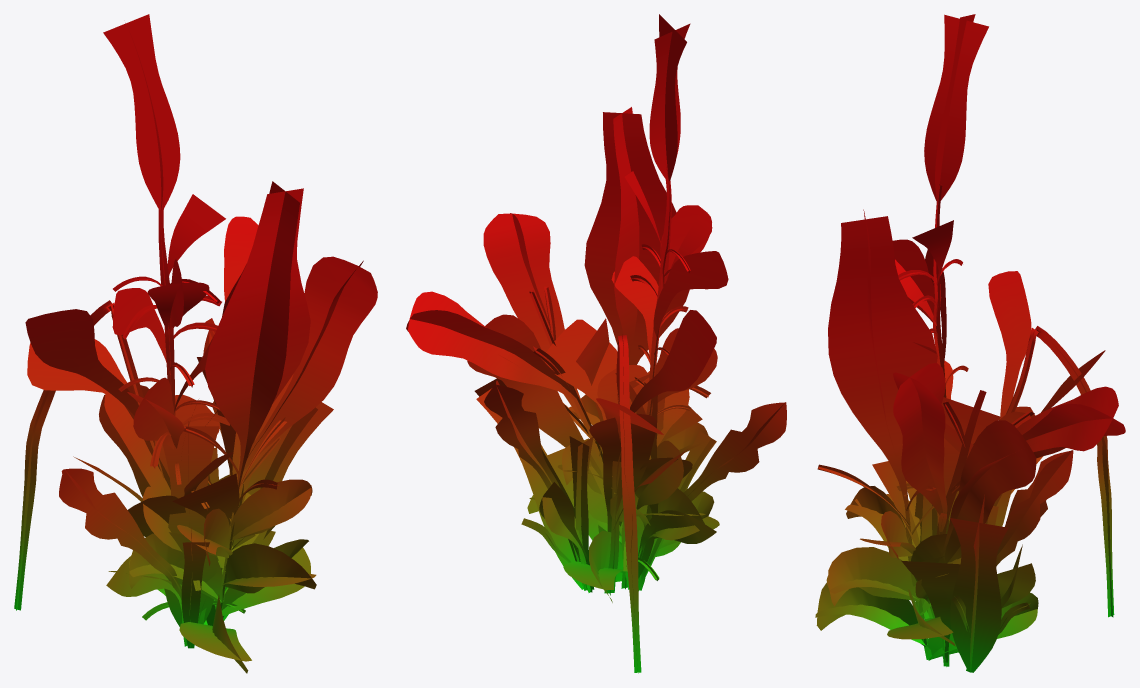
Rendered from Green Herb_LOD0_Var2_tbbpaier.fbx.
The picture shows the model from 3 angles, left to right: view 1: azimuth 30°, elevation 25°; view 2: azimuth 150°, elevation 25°; view 3: azimuth 270°, elevation 25°; orthographic projection. The views are drawn at different scales.
Parts seen in each view (by area): view 1: _4160_Var2_LOD0; view 2: _4160_Var2_LOD0; view 3: _4160_Var2_LOD0.
Boxes of the visible parts, box(x1,y1,x2,y2) form: _4160_Var2_LOD0: box(14, 14, 377, 673); _4160_Var2_LOD0: box(406, 14, 786, 673); _4160_Var2_LOD0: box(815, 14, 1125, 672).
Bounding box in the file's own units: 13.03 × 25.27 × 11.37.
